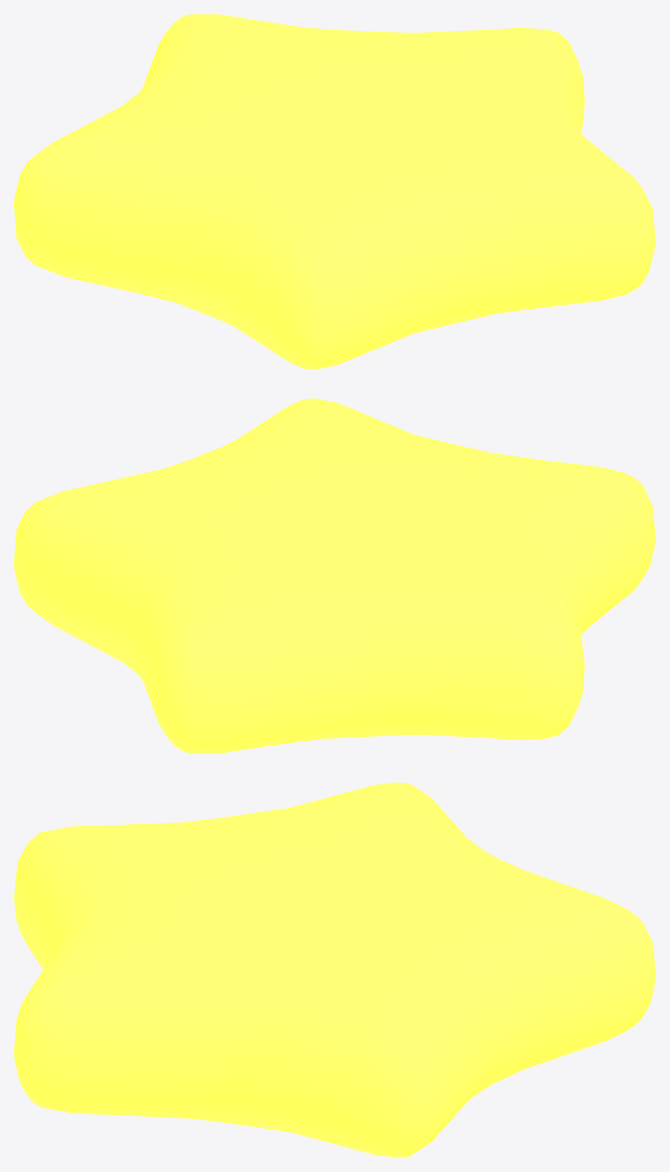
File: star.glb
3 renders of one model, top to bottom at view 1: azimuth 30°, elevation 25°; view 2: azimuth 150°, elevation 25°; view 3: azimuth 270°, elevation 25°, orthographic. The views are drawn at different scales.
Visible parts, largest first — view 1: Circle; view 2: Circle; view 3: Circle.
Part boxes in pixels (left/top/right/bottom): Circle: left=14, top=14, right=655, bottom=369; Circle: left=14, top=398, right=655, bottom=753; Circle: left=14, top=782, right=655, bottom=1157.
Bounding box in the file's own units: 1.66 × 0.4734 × 1.59.
